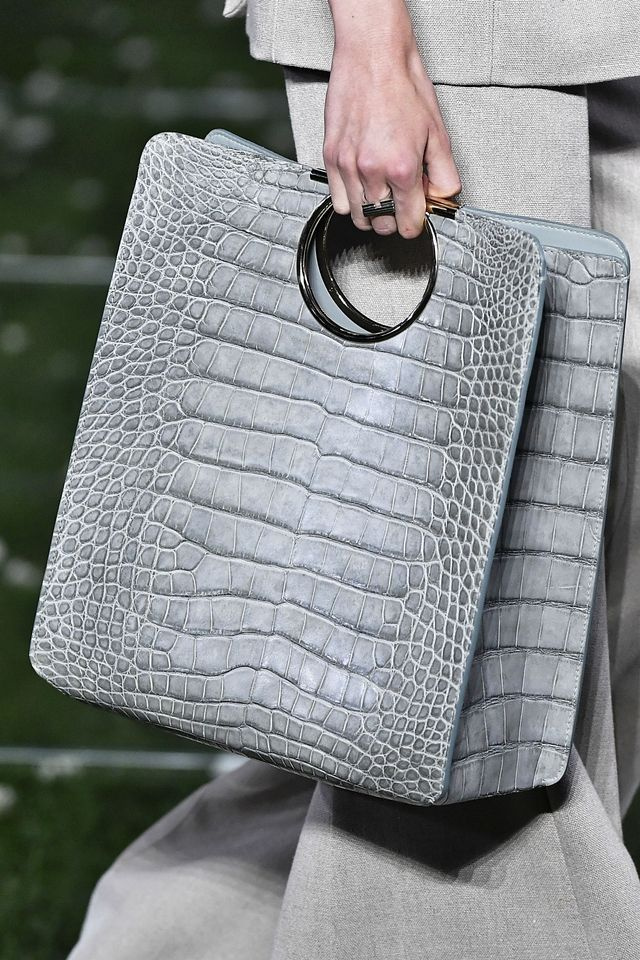cuero: (23, 128, 632, 807)
